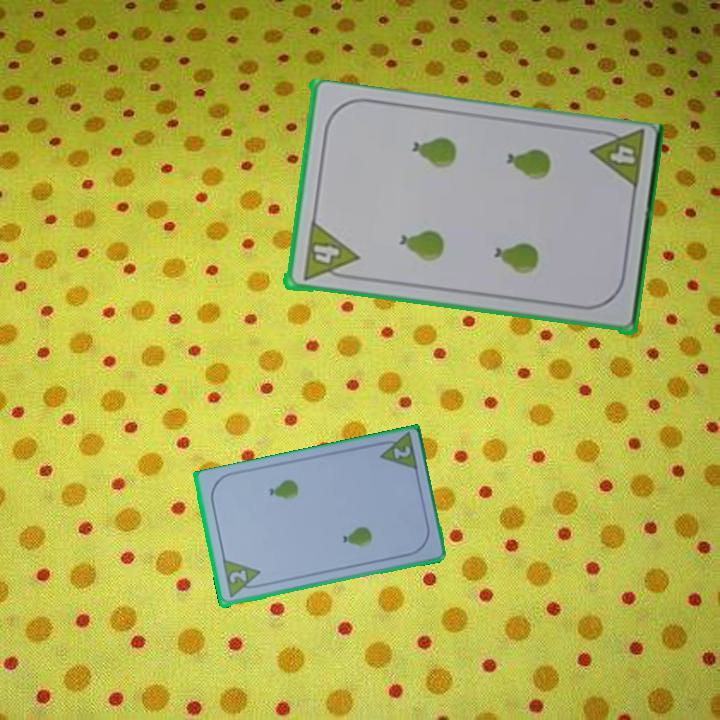2p: (219, 557, 265, 601), (389, 442, 414, 462)
4p: (586, 126, 648, 195), (298, 219, 360, 284)
